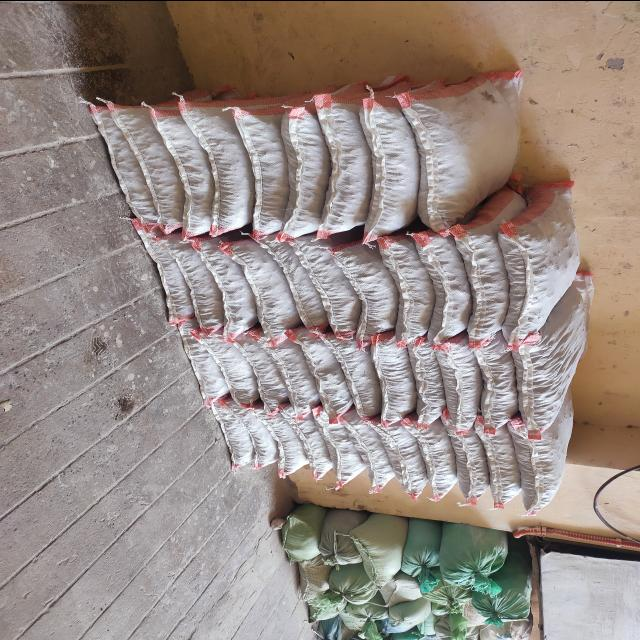Gravel: (426, 86, 520, 212), (510, 212, 566, 336), (526, 292, 582, 416), (526, 416, 578, 512), (140, 114, 182, 232), (177, 115, 219, 233), (212, 105, 254, 223), (251, 107, 293, 225), (291, 108, 333, 226), (333, 115, 375, 233), (375, 108, 413, 238), (467, 231, 509, 339), (432, 227, 467, 345), (397, 235, 432, 353), (359, 230, 394, 348), (320, 235, 355, 353), (291, 239, 326, 357), (265, 244, 300, 362), (226, 241, 261, 359), (192, 235, 227, 353), (158, 227, 193, 345), (483, 431, 527, 516), (475, 338, 519, 423), (459, 426, 495, 505), (422, 419, 458, 498), (386, 418, 422, 497), (354, 413, 390, 492), (329, 409, 365, 488), (297, 401, 333, 480), (268, 402, 304, 481), (250, 401, 286, 480), (214, 393, 250, 472), (445, 342, 481, 421), (409, 343, 445, 422), (377, 342, 413, 421), (344, 341, 380, 420), (311, 336, 347, 415), (280, 335, 316, 414), (247, 333, 283, 412), (217, 337, 253, 416), (190, 332, 226, 411)
